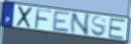E: (52, 10, 72, 34), (107, 18, 127, 41)
F: (33, 7, 53, 30)
N: (69, 12, 92, 36)
S: (90, 15, 108, 38)
X: (15, 5, 34, 29)
